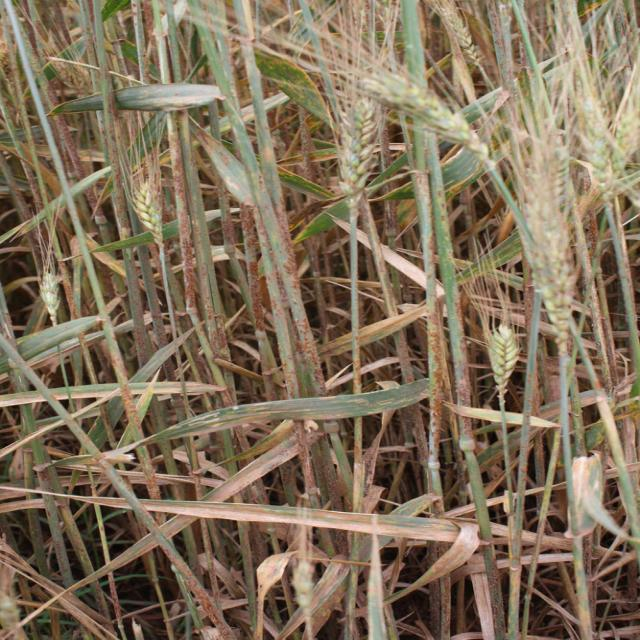wheat-septoria: (276, 194, 330, 397), (160, 542, 238, 640), (97, 65, 131, 231), (169, 134, 198, 308), (226, 434, 299, 501), (277, 53, 336, 119), (426, 301, 446, 463), (588, 280, 611, 390), (204, 260, 230, 355), (294, 420, 322, 508), (53, 115, 86, 182), (454, 291, 472, 407), (310, 586, 348, 637), (130, 261, 148, 368), (119, 382, 146, 443), (486, 558, 506, 639), (194, 125, 232, 166), (136, 446, 163, 500), (216, 172, 235, 246), (247, 260, 266, 333), (362, 433, 380, 499)
